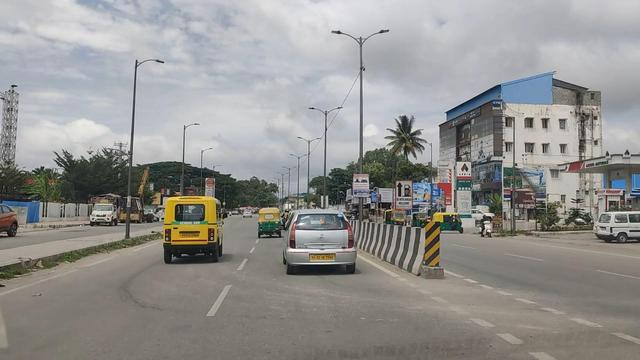LMV: (279, 209, 358, 280), (158, 194, 229, 266), (253, 201, 284, 243)
